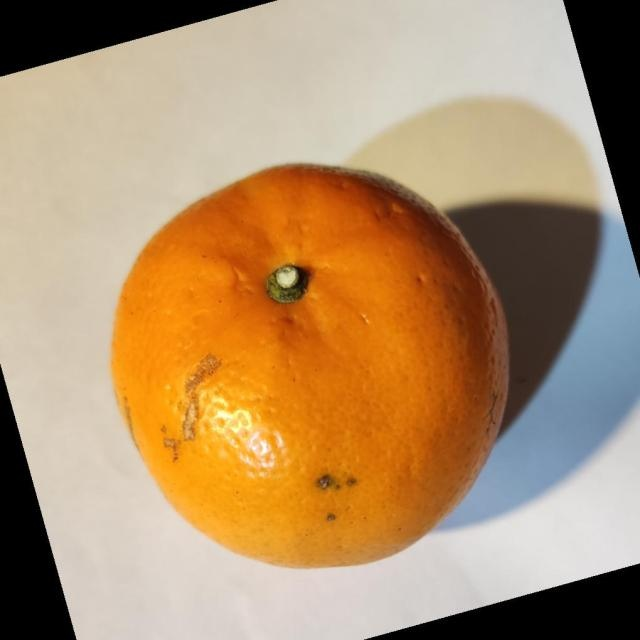agrume: (109, 160, 511, 569)
